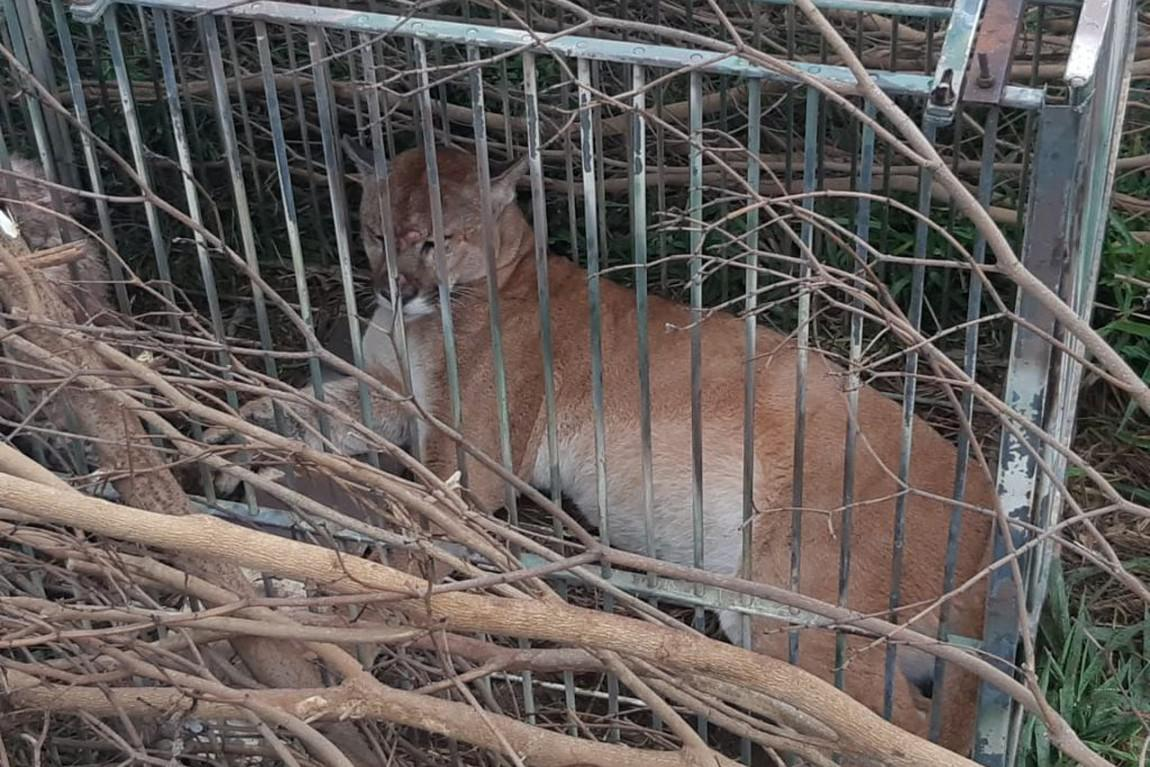OncaParda: (259, 134, 1006, 715)
